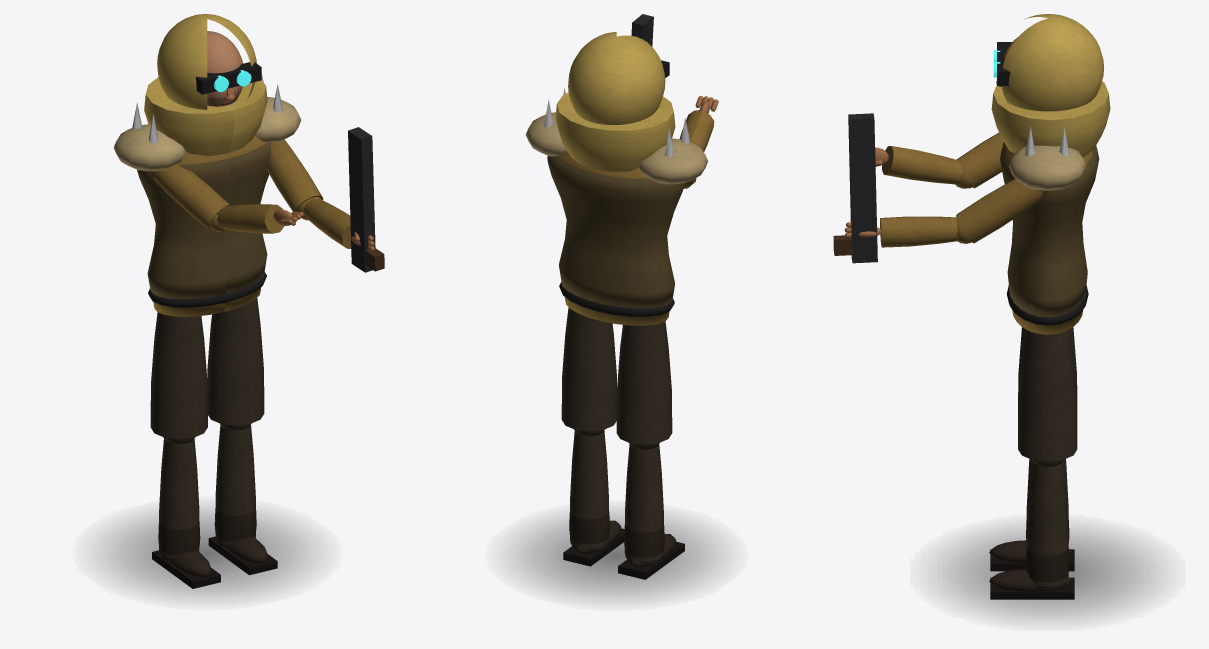
File: enemy_jackal.glb
The picture shows the model from 3 angles, left to right: view 1: azimuth 30°, elevation 25°; view 2: azimuth 150°, elevation 25°; view 3: azimuth 270°, elevation 25°; orthographic projection. The views are drawn at different scales.
Visible parts, largest first — view 1: chest, head, object 11, legL, legR, shinR, shinL, foreR, armL, foreL, armR; view 2: chest, head, object 11, legL, legR, shinL, shinR, foreL, foreR; view 3: chest, head, object 11, legR, foreR, shinR, armR, foreL, shinL, armL.
Part boxes in pixels (<box>): chest: <box>113,74,301,316</box>; head: <box>144,14,267,155</box>; object 11: <box>99,507,315,598</box>; legL: <box>150,312,207,439</box>; legR: <box>207,298,264,425</box>; shinR: <box>208,423,277,575</box>; shinL: <box>152,437,220,588</box>; foreR: <box>296,127,384,272</box>; armL: <box>144,164,230,230</box>; foreL: <box>210,204,303,233</box>; armR: <box>267,139,323,211</box>; chest: <box>525,88,708,325</box>; head: <box>555,32,675,171</box>; object 11: <box>512,511,722,599</box>; legL: <box>616,321,672,444</box>; legR: <box>561,307,616,431</box>; shinL: <box>618,443,684,579</box>; shinR: <box>563,429,624,566</box>; foreL: <box>679,96,718,151</box>; foreR: <box>631,14,653,46</box>; chest: <box>1000,126,1099,334</box>; head: <box>991,14,1110,157</box>; object 11: <box>937,526,1157,619</box>; legR: <box>1018,329,1077,461</box>; foreR: <box>833,113,971,263</box>; shinR: <box>989,459,1074,599</box>; armR: <box>956,179,1051,243</box>; foreL: <box>875,146,973,188</box>; shinL: <box>989,459,1074,571</box>; armL: <box>956,132,1003,188</box>.
Bounding box in the file's own units: 0.9374 × 1.97 × 1.15.
7 materials, 4 textured.
